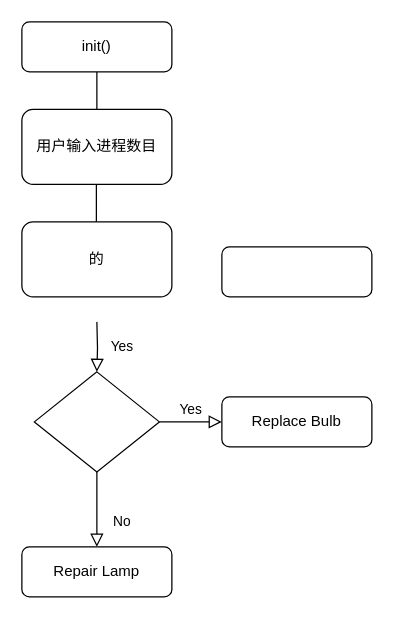
This 394x619 diagram has some shape labels left out. Each missing label, with the centre of its shape:
Bulb burned out?: [96,421]
Plug in lamp: [296,271]
